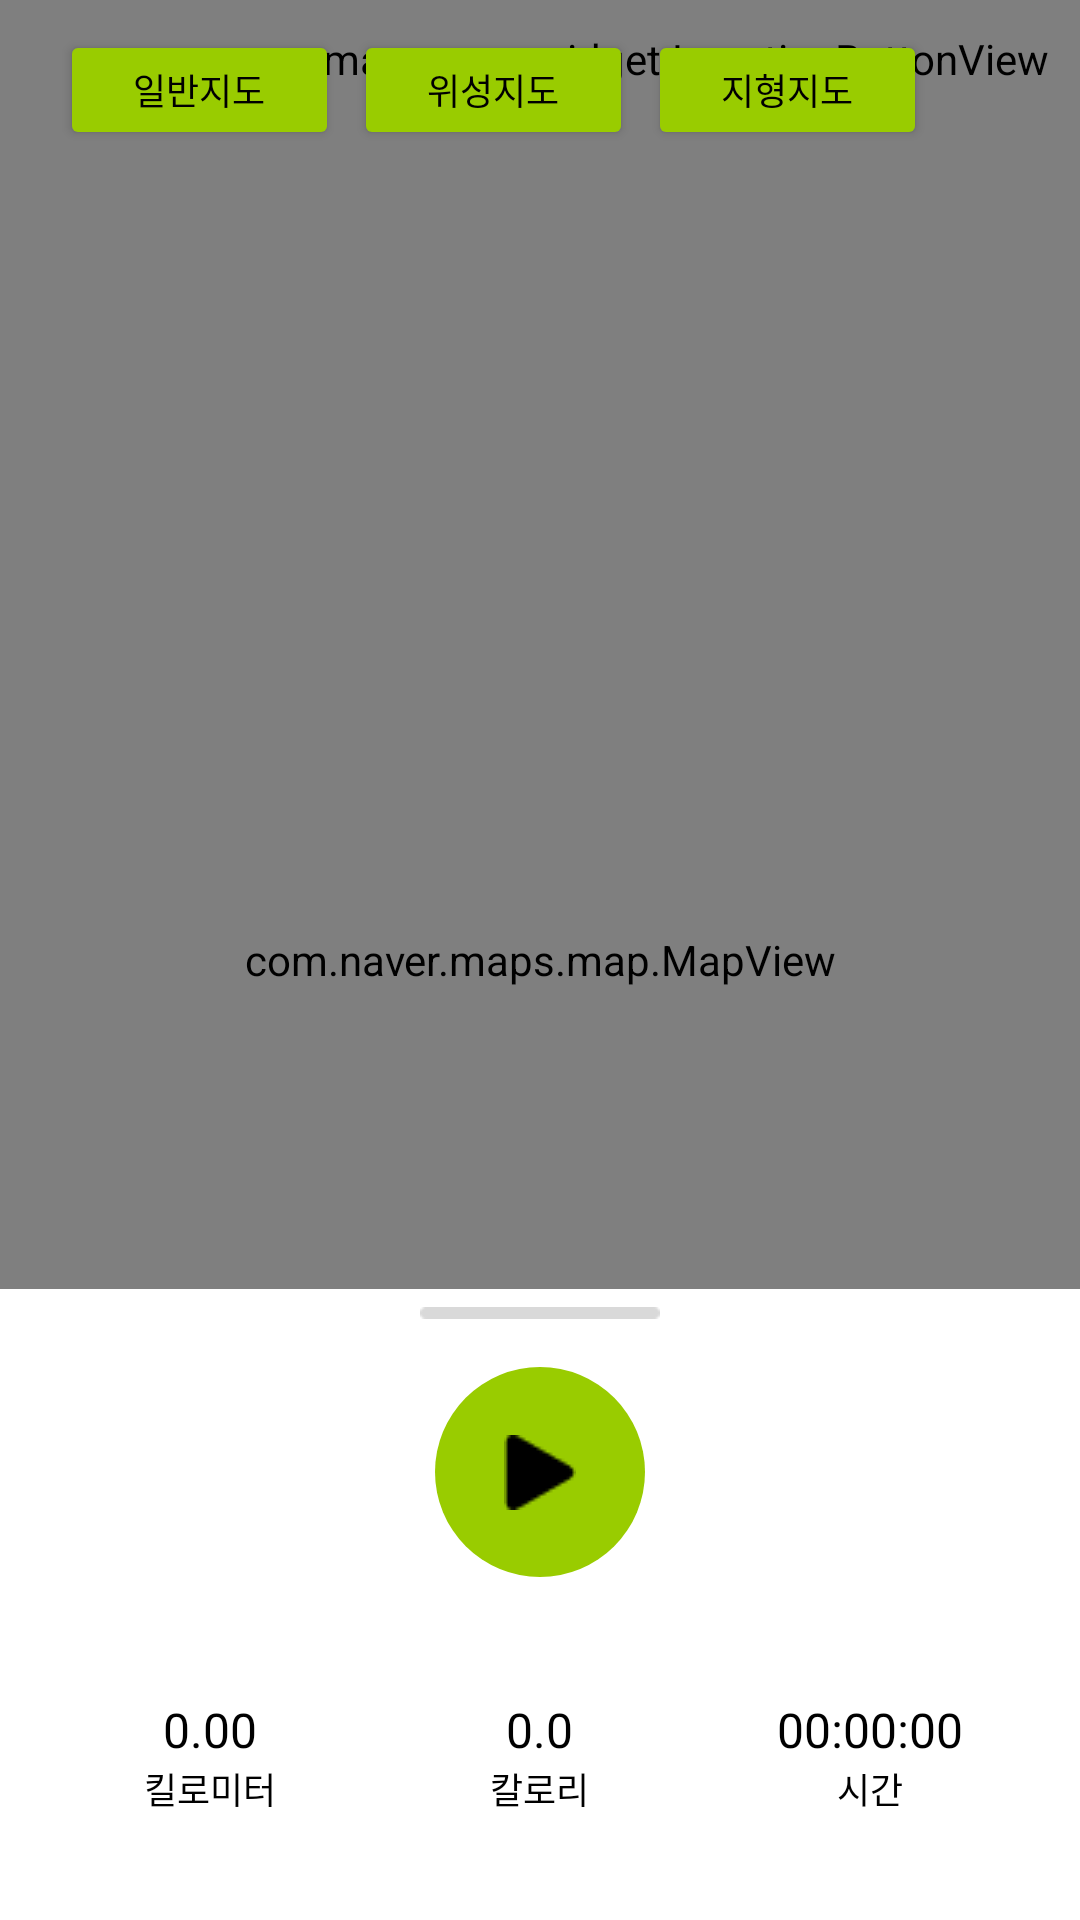

Where icons sit on this 1080*1920 app screen, as (x1=x1, y1=y1, x2=x2, y2=y2):
play: (x1=435, y1=1367, x2=645, y2=1577)
